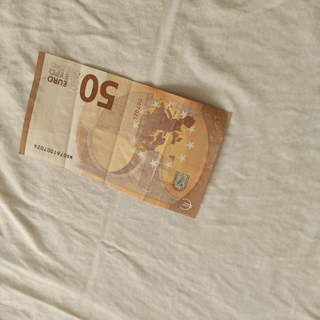50EUROBack: (17, 49, 233, 219)
